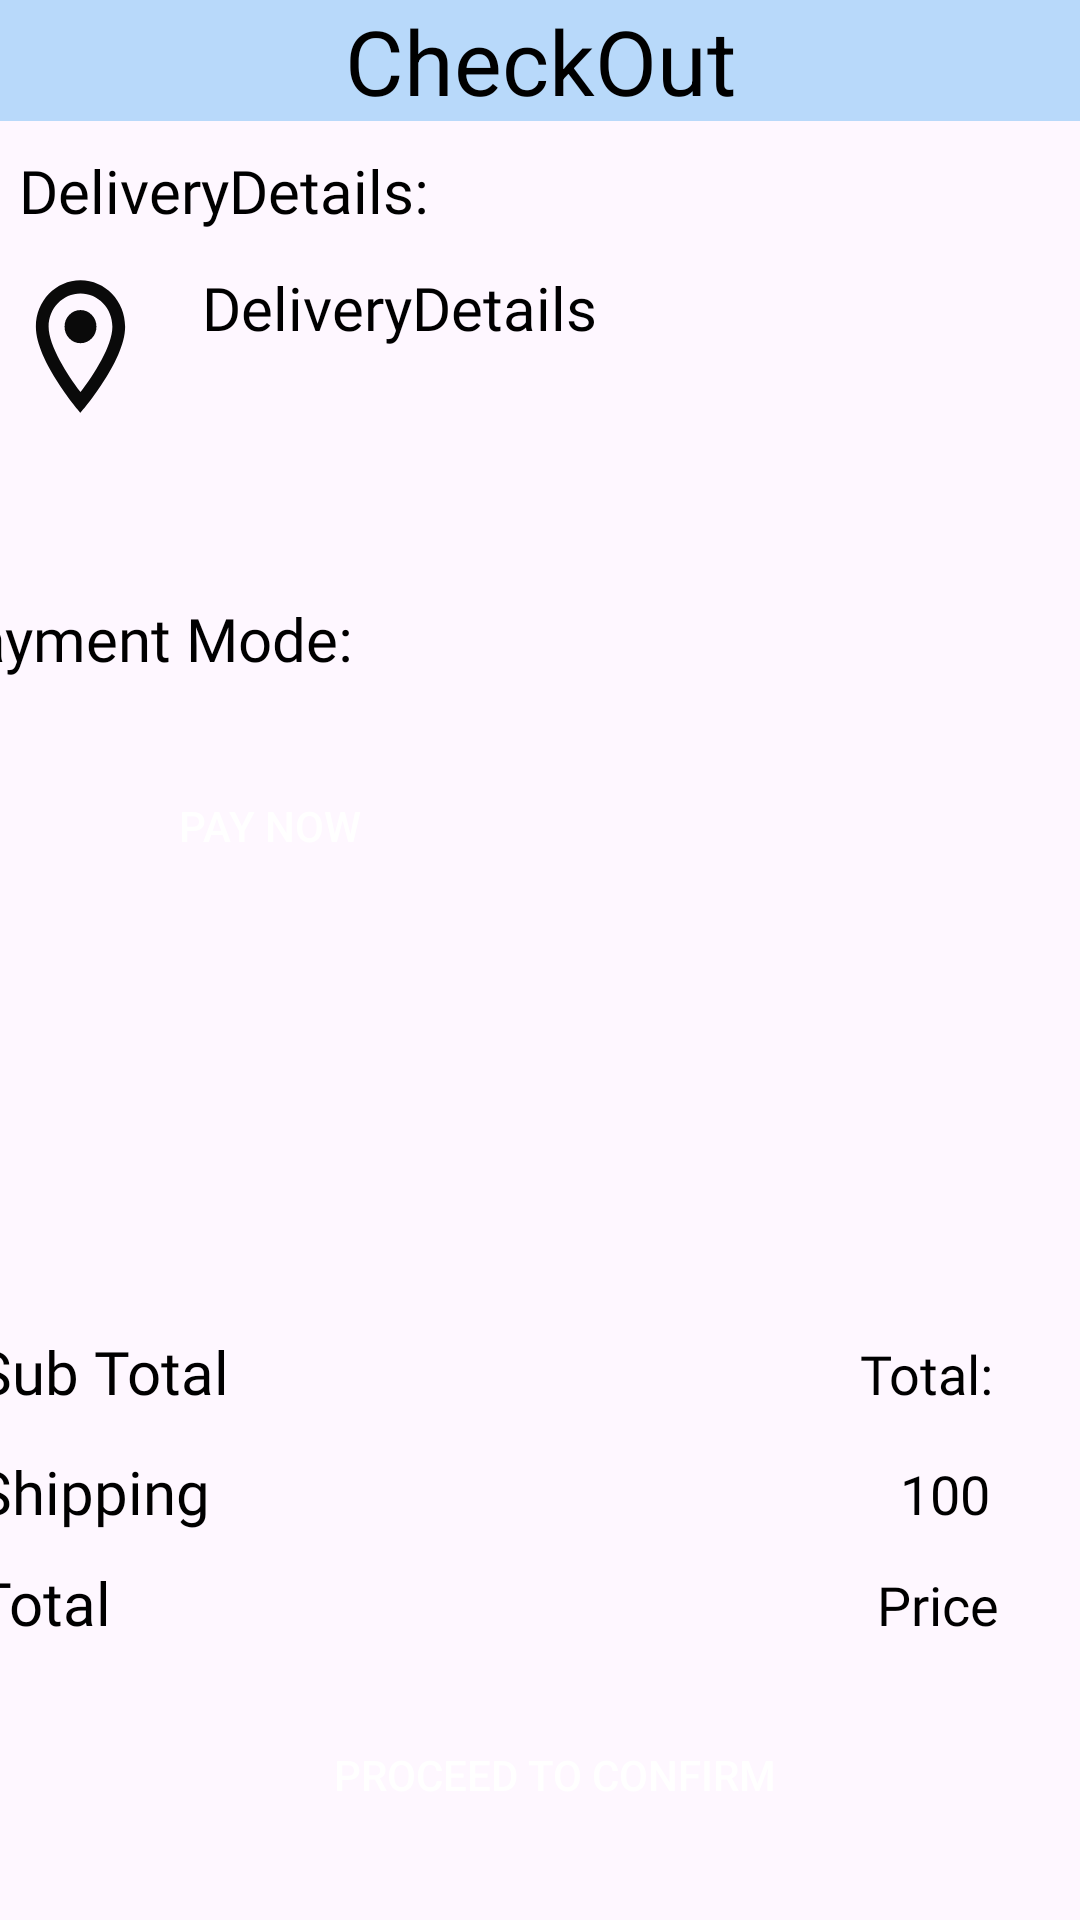

Icons on this 1080 x 1920 Android screen, each with the point to tap as (x,y):
location on: (80,346)
